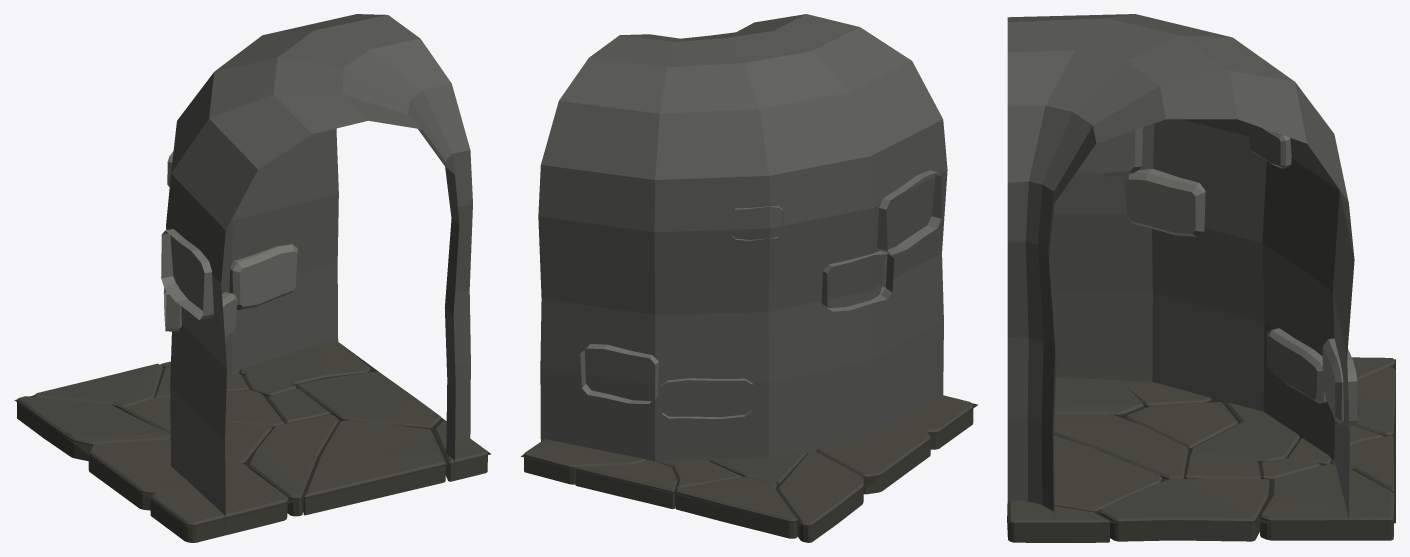
File: Hallway_Curve_Short.glb
The picture shows the model from 3 angles, left to right: view 1: azimuth 30°, elevation 25°; view 2: azimuth 150°, elevation 25°; view 3: azimuth 270°, elevation 25°; orthographic projection. The views are drawn at different scales.
Visible parts, largest first — view 1: Hallway_Curve_Short.001; view 2: Hallway_Curve_Short.001; view 3: Hallway_Curve_Short.001.
Part boxes in pixels (x1,y1,x2,y2): Hallway_Curve_Short.001: [14, 14, 491, 542]; Hallway_Curve_Short.001: [521, 14, 977, 542]; Hallway_Curve_Short.001: [1007, 14, 1395, 542].
Bounding box in the file's own units: 2 × 2.47 × 2.
2 materials, 2 textured.
